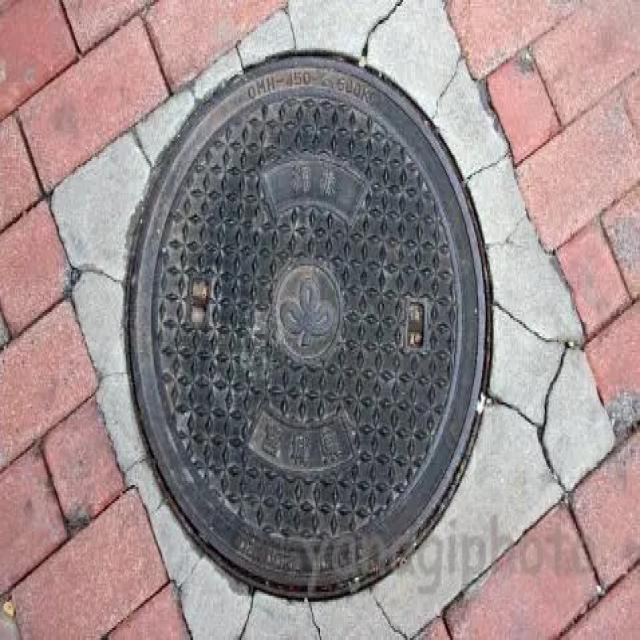manhole: (133, 59, 491, 602)
